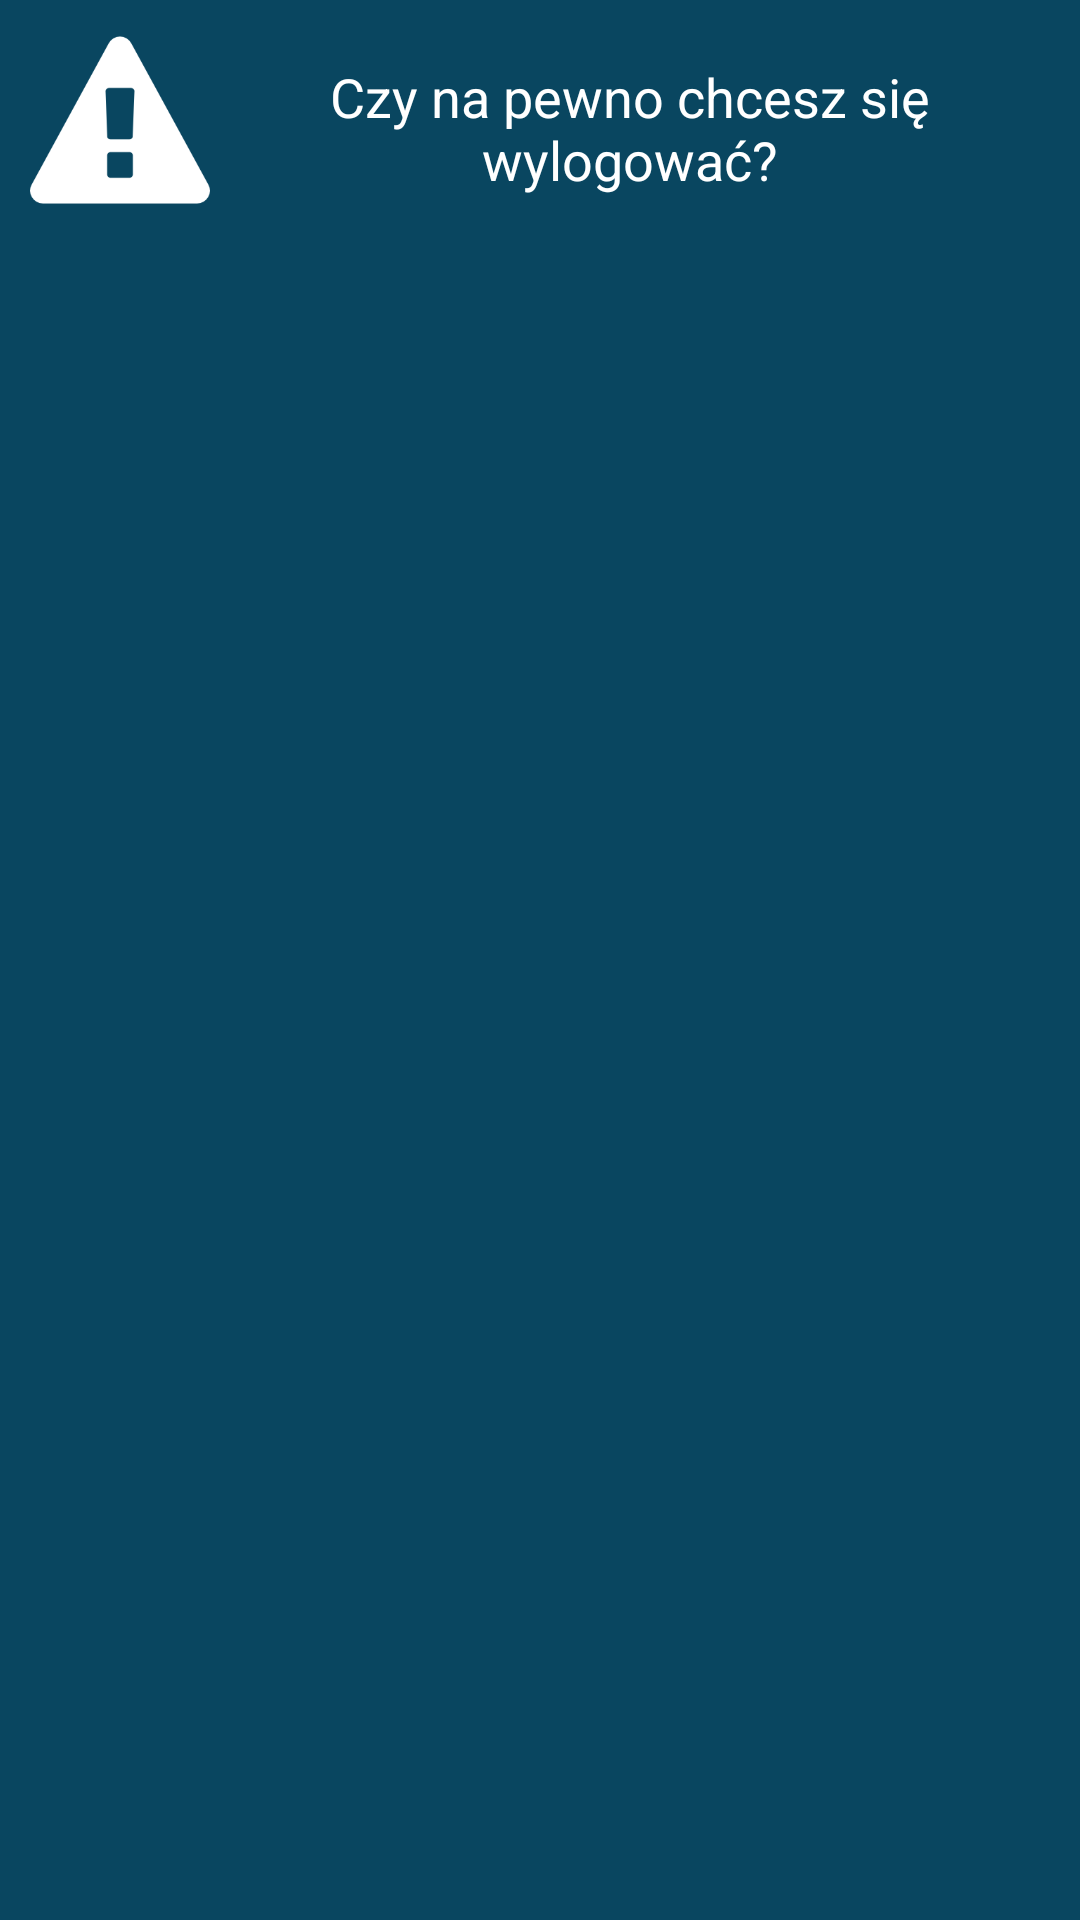

Named icons in this screenshot (1080×1920) and their bounding boxes, bbox=(x1, y1, x2, y2):
warning sign: bbox=(30, 36, 210, 204)
